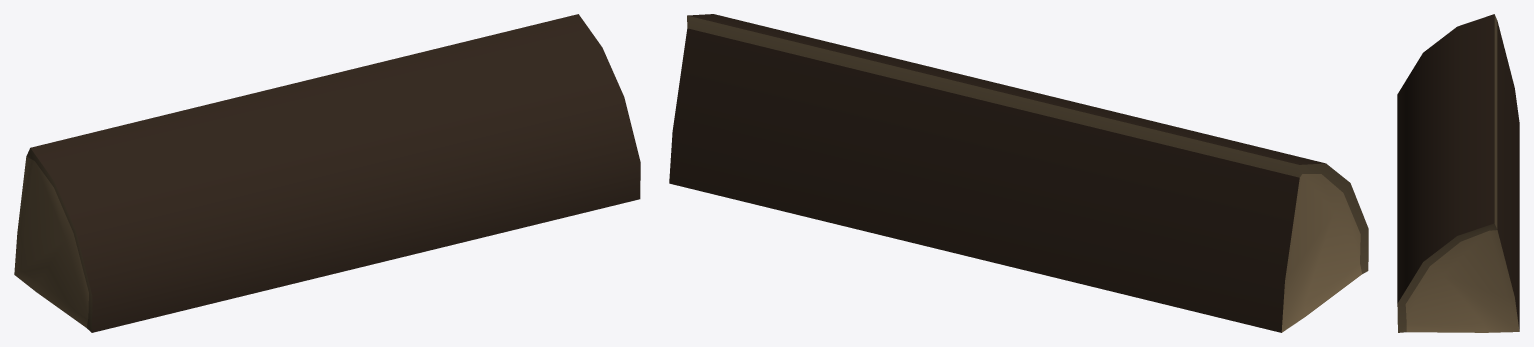
The model's file is trees-dead-trees-wood-cut-log_v3.glb.
3 renders of one model, left to right at view 1: azimuth 30°, elevation 25°; view 2: azimuth 150°, elevation 25°; view 3: azimuth 270°, elevation 25°, orthographic. The views are drawn at different scales.
Visible parts, largest first — view 1: Cut Log_v3; view 2: Cut Log_v3; view 3: Cut Log_v3.
Boxes of the visible parts, box(x1,y1,x2,y2) form: Cut Log_v3: box(14, 14, 640, 332); Cut Log_v3: box(669, 14, 1368, 332); Cut Log_v3: box(1397, 14, 1519, 332).
Size of the model in its own units: 1.5 by 0.3656 by 0.3683.
